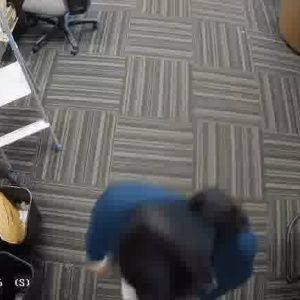person: (89, 175, 254, 296)
